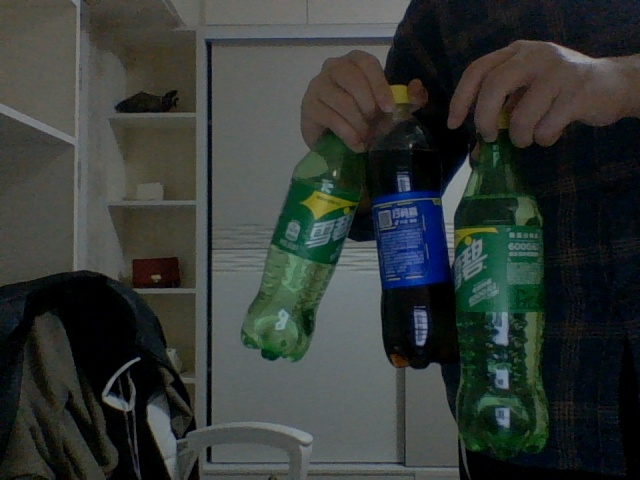Cola: (367, 84, 457, 370)
Sprite: (454, 111, 550, 457), (240, 131, 362, 360)
